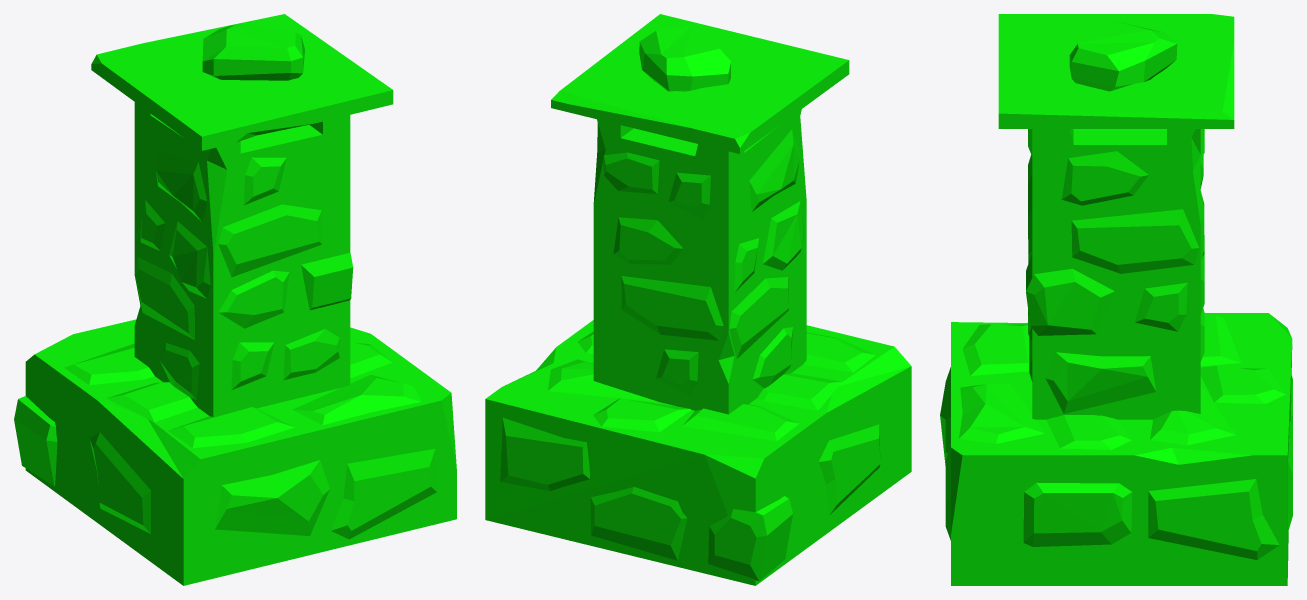
The model's file is SM_Chimney_Top_A_Fantasy.fbx.
The picture shows the model from 3 angles, left to right: view 1: azimuth 30°, elevation 25°; view 2: azimuth 150°, elevation 25°; view 3: azimuth 270°, elevation 25°; orthographic projection. The views are drawn at different scales.
Visible parts, largest first — view 1: chimney-top-a-fantasy; view 2: chimney-top-a-fantasy; view 3: chimney-top-a-fantasy.
Boxes of the visible parts, x1,y1,x2,y2 form: chimney-top-a-fantasy: [14, 14, 456, 585]; chimney-top-a-fantasy: [485, 14, 911, 585]; chimney-top-a-fantasy: [940, 14, 1292, 585].
Bounding box in the file's own units: 1.07 × 1.59 × 1.05.
